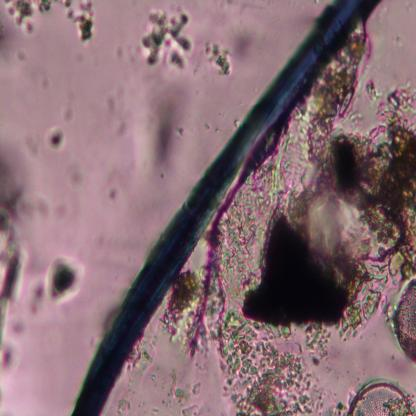Background material: (243, 92, 416, 324), (167, 226, 322, 413), (0, 132, 44, 370), (141, 74, 190, 182), (3, 0, 97, 48), (138, 9, 193, 70), (202, 23, 260, 79), (163, 365, 204, 415), (44, 258, 83, 310), (43, 194, 72, 228), (46, 124, 65, 152), (66, 162, 84, 185)
Cotton: (70, 0, 378, 416)
Diatom: (347, 376, 413, 415), (391, 278, 416, 359)
